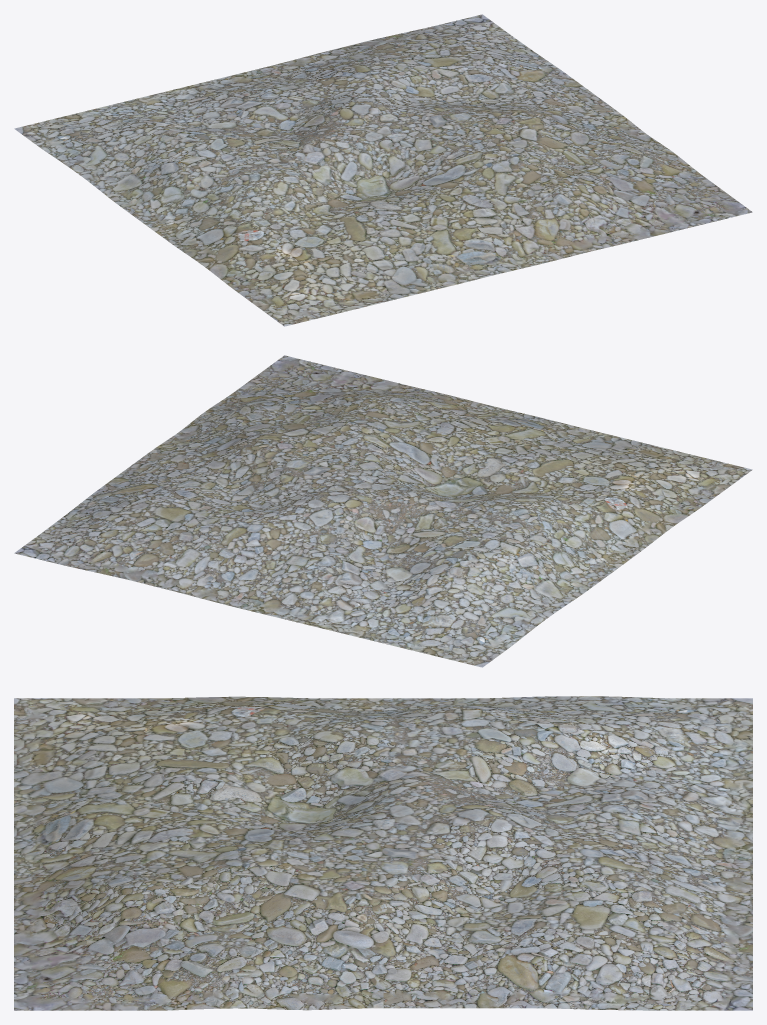
The model's file is sm_Cobble_01_02.fbx.
3 renders of one model, top to bottom at view 1: azimuth 30°, elevation 25°; view 2: azimuth 150°, elevation 25°; view 3: azimuth 270°, elevation 25°, orthographic. The views are drawn at different scales.
Visible parts, largest first — view 1: sm_Cobble_01_02_LOD0; view 2: sm_Cobble_01_02_LOD0; view 3: sm_Cobble_01_02_LOD0.
Part boxes in pixels (left/top/right/bottom): sm_Cobble_01_02_LOD0: left=14, top=14, right=752, bottom=326; sm_Cobble_01_02_LOD0: left=14, top=355, right=752, bottom=667; sm_Cobble_01_02_LOD0: left=14, top=696, right=752, bottom=1010.
Size of the model in its own units: 350 by 350 by 25.42.
